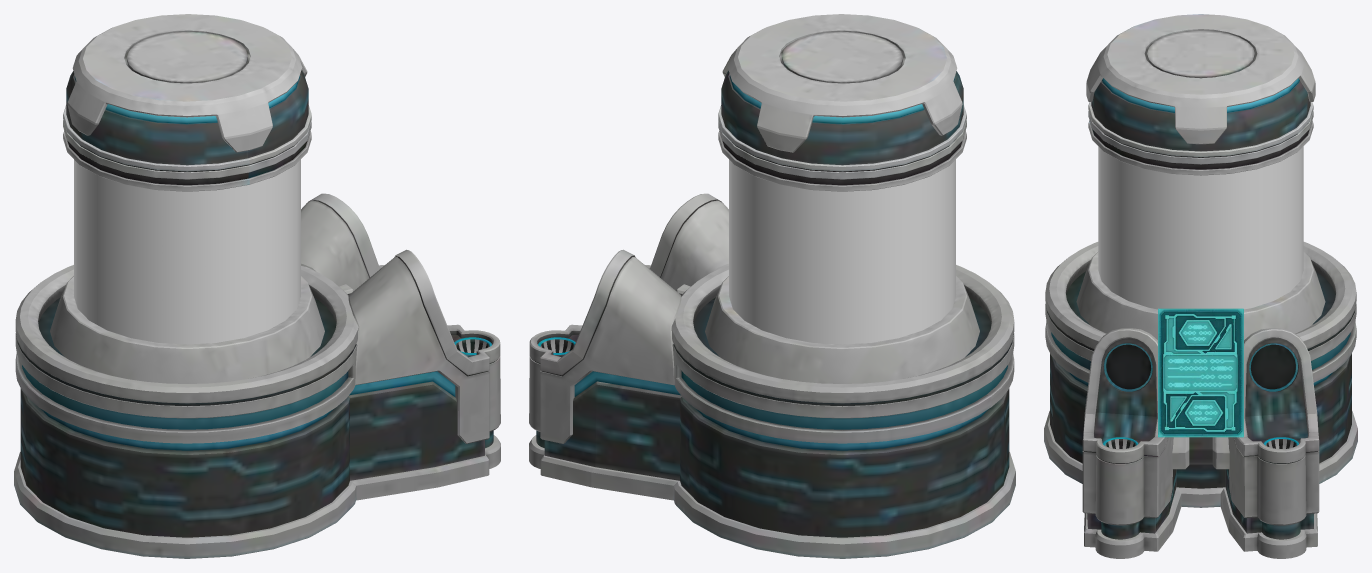
The model's file is SM_PalMatingStationAncient_b3db49.glb.
3 renders of one model, left to right at view 1: azimuth 30°, elevation 25°; view 2: azimuth 150°, elevation 25°; view 3: azimuth 270°, elevation 25°, orthographic. The views are drawn at different scales.
Size of the model in its own units: 2.67 by 2.63 by 1.93.
Materials: 3 (2 with a texture image).
